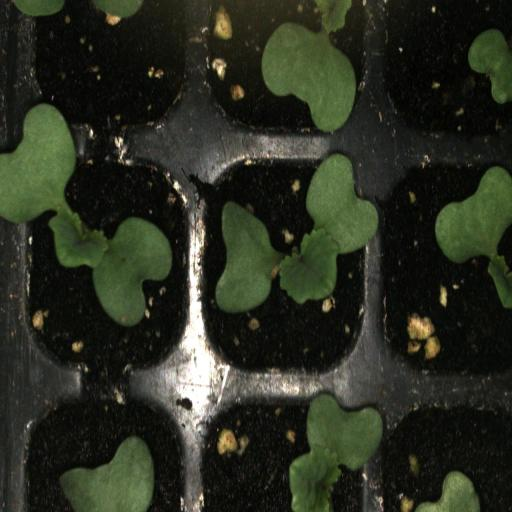Folha: (468, 29, 512, 104), (415, 470, 480, 512)
Germinacao: (12, 139, 197, 376), (196, 137, 378, 376), (384, 140, 512, 374), (195, 0, 379, 142), (195, 381, 376, 512)
